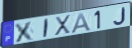1: (94, 10, 102, 30)
A: (71, 12, 93, 34)
I: (43, 17, 50, 39)
J: (113, 6, 127, 26)
X: (14, 20, 36, 44), (54, 14, 72, 36)
